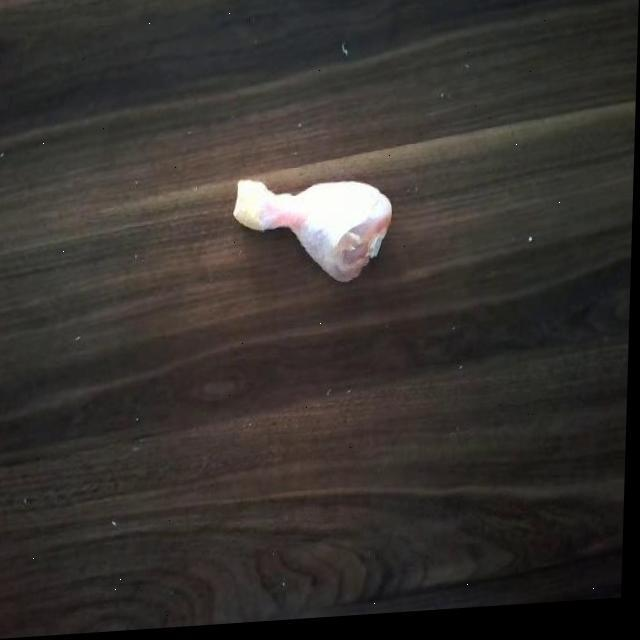leg: (228, 165, 400, 299)
